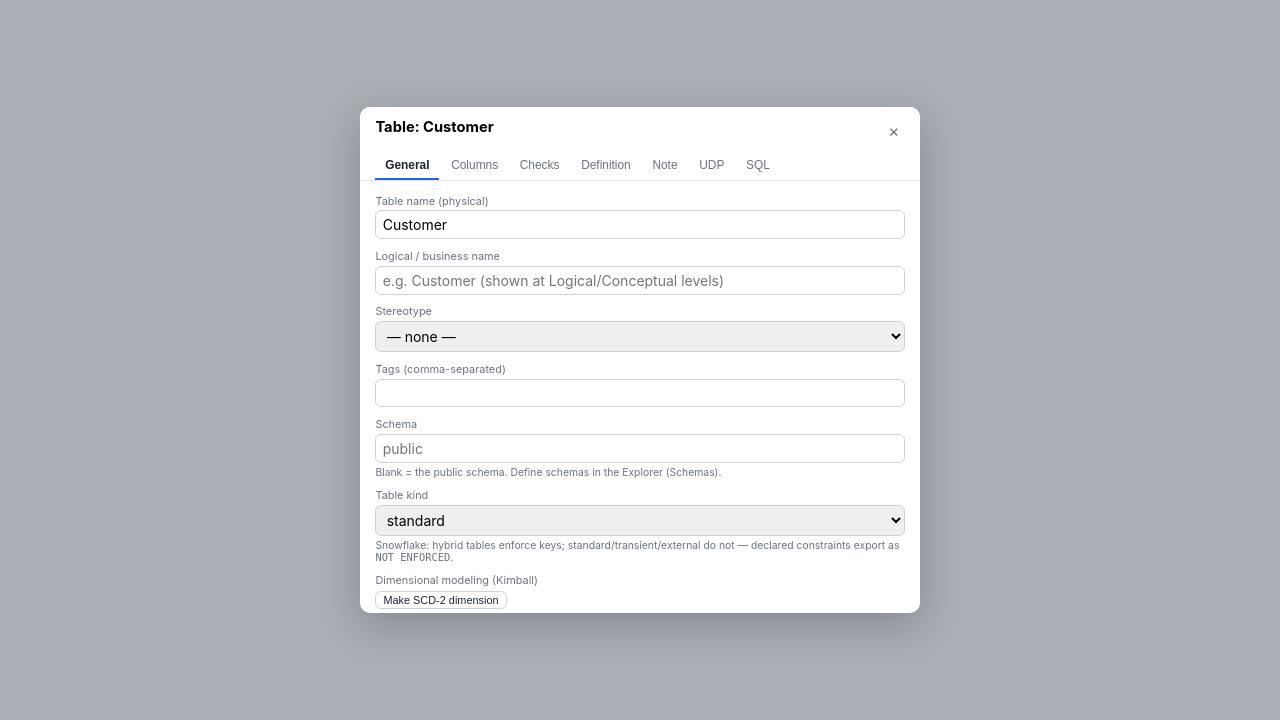
it: ColumnGrid interactions › expands the detail editor (Definition) on demand
This screenshot has width=1280, height=720.
Click the button with class "tab-btn" showing "Columns" at (475, 166), box [441,153,508,180]
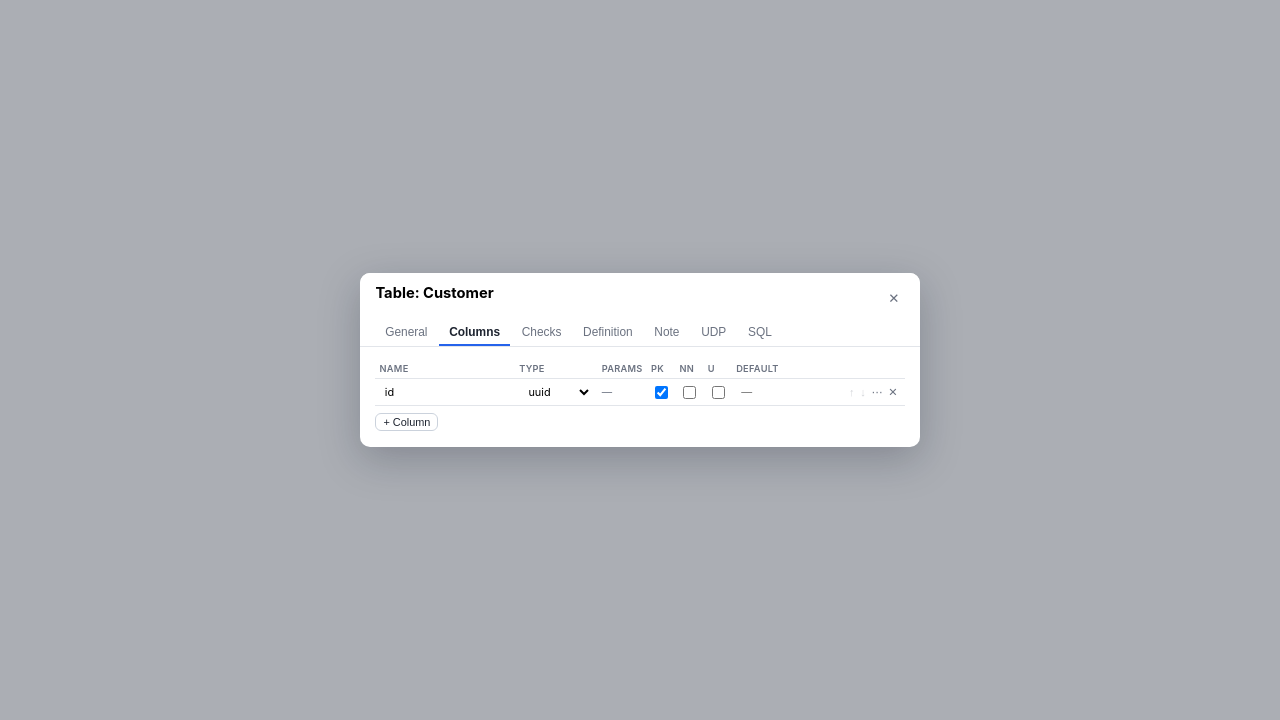
Expected: the text "Logical / business name" is gone
Click the button with class "colgrid__act" showing "⋯" at (877, 392), box [869,384,886,400]
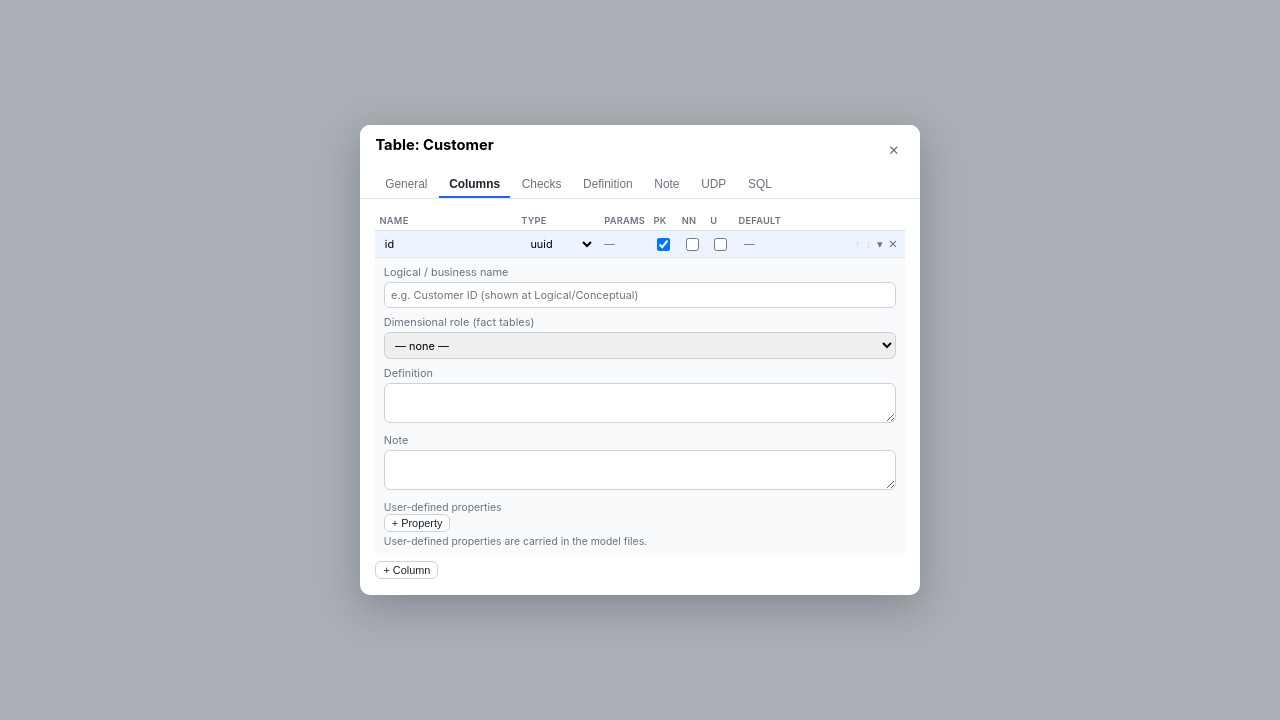
Expected: the text "Definition" is shown, [573,171,642,198]
Expected: the text "Logical / business name" is shown, [384,265,508,279]
